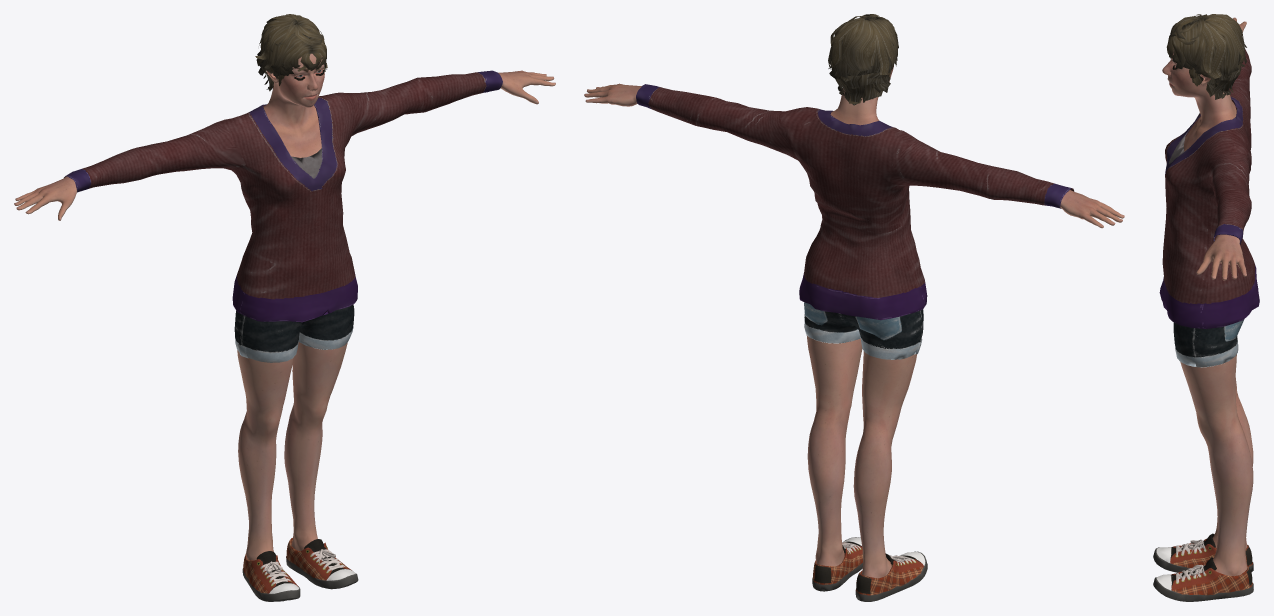
Rendered from decimated-55_Sara.fbx.
The picture shows the model from 3 angles, left to right: view 1: azimuth 30°, elevation 25°; view 2: azimuth 150°, elevation 25°; view 3: azimuth 270°, elevation 25°; orthographic projection.
Parts seen in each view (by area): view 1: Tops, Body, Bottoms, Shoes, Hair; view 2: Tops, Body, Hair, Bottoms, Shoes; view 3: Tops, Body, Hair, Shoes, Bottoms.
Boxes of the visible parts, x1,y1,x2,y2 form: Tops: (64,70,502,322); Body: (14,53,555,560); Bottoms: (234,304,354,362); Shoes: (242,538,358,601); Hair: (255,14,327,91); Tops: (636,84,1074,320); Body: (584,66,1124,578); Hair: (828,14,898,105); Bottoms: (804,302,923,359); Shoes: (812,537,927,601); Tops: (1159,49,1259,328); Body: (1162,17,1253,576); Hair: (1166,14,1246,99); Shoes: (1153,533,1253,601); Bottoms: (1173,319,1244,367).
Size of the model in its own units: 18121 by 18154 by 3115.
